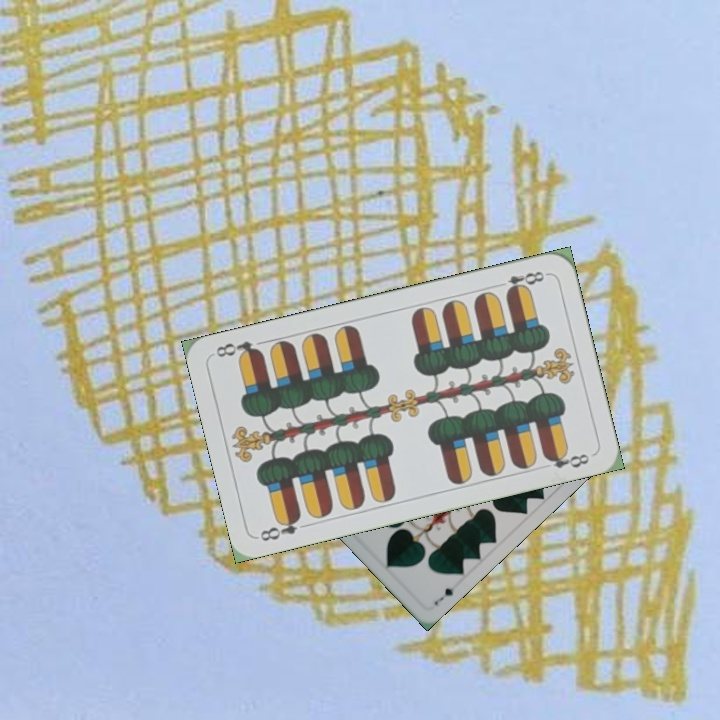E8: (491, 267, 550, 297), (256, 511, 304, 544)
G7: (430, 584, 456, 608)
